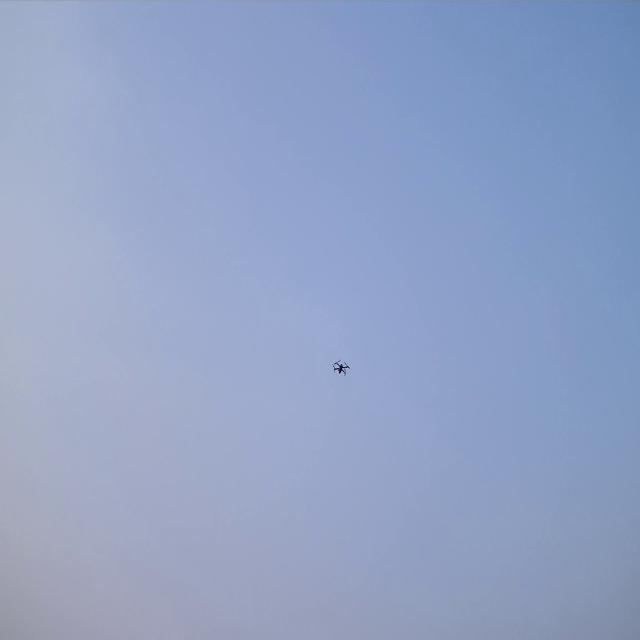UAV: (332, 356, 351, 377)
